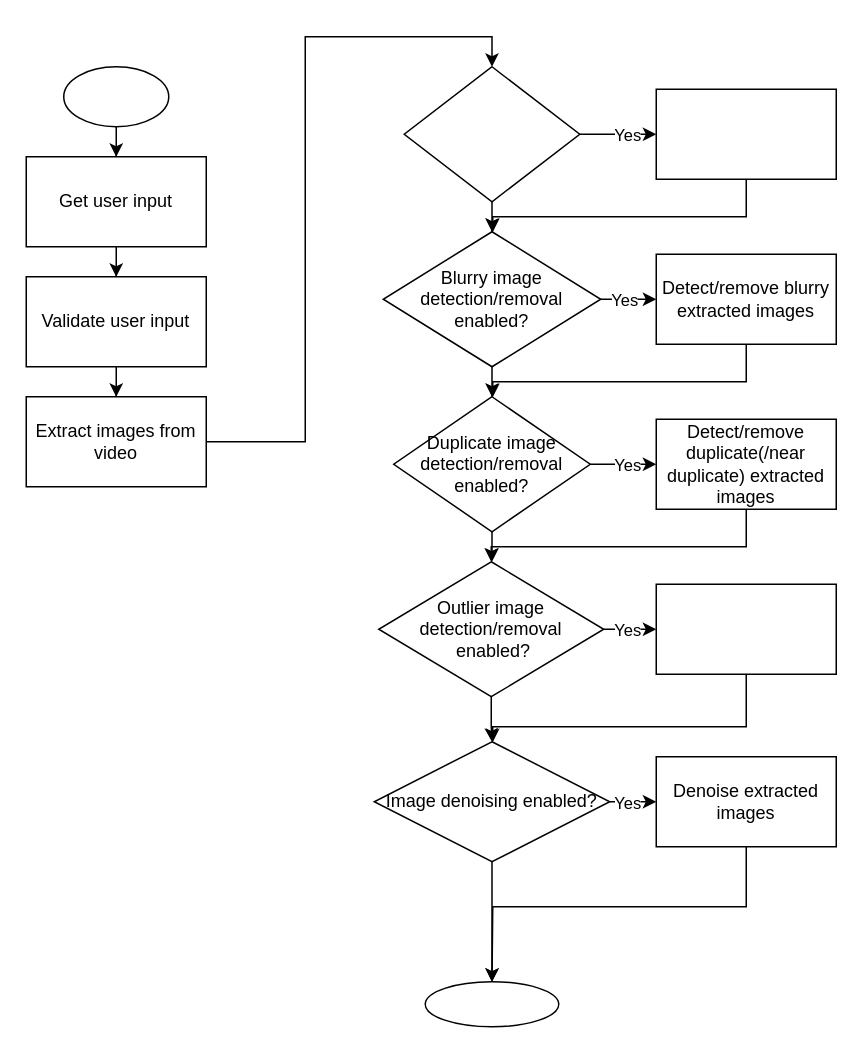
This 863x1053 diagram has some shape labels left out. Each missing label, with the centre of its shape:
"Detect/remove anomalous extracted images" belongs at point (745, 628).
"End" belongs at point (491, 1003).
"Image resizing enabled?" belongs at point (491, 133).
"Resize extracted images" belongs at point (745, 133).
"Start" belongs at point (115, 96).
